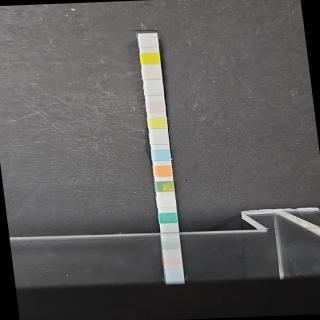mark: (140, 34, 157, 48), (150, 132, 169, 144), (148, 117, 167, 129), (144, 84, 163, 96), (159, 212, 177, 224), (154, 164, 172, 176), (143, 68, 161, 80), (141, 52, 159, 64), (158, 195, 175, 207), (155, 181, 173, 192), (152, 149, 170, 160), (148, 101, 165, 112)
